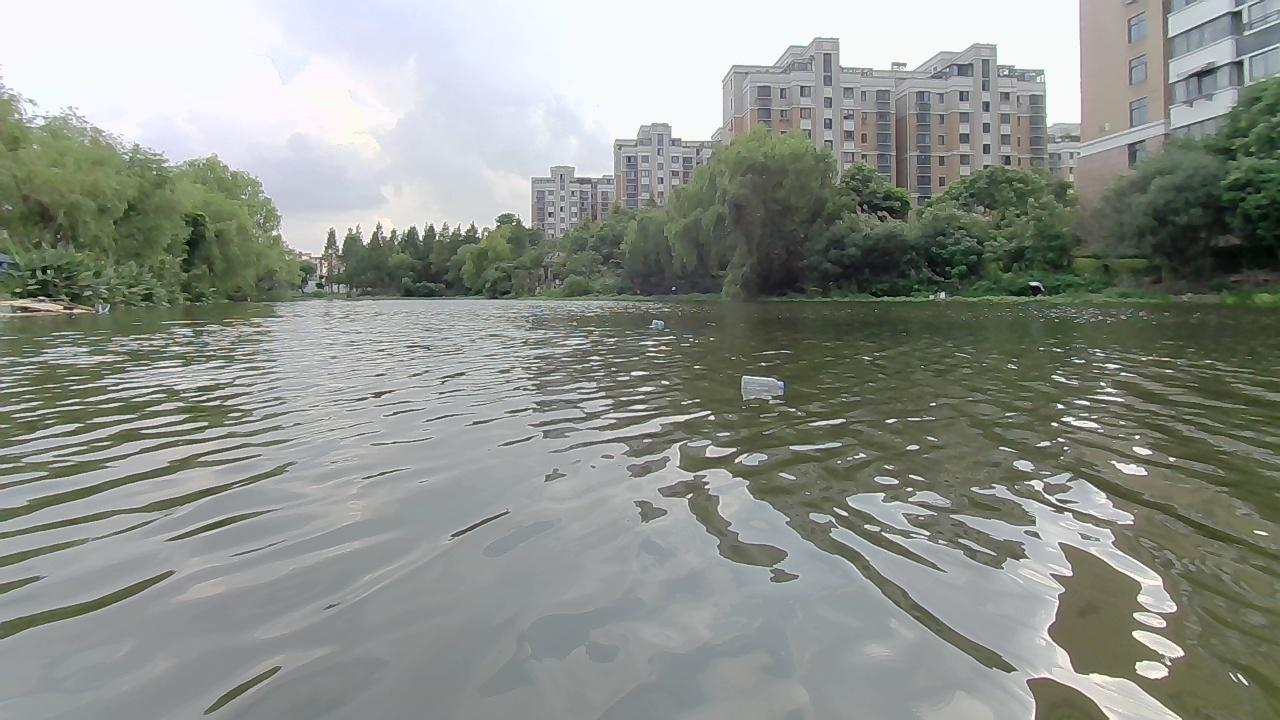bottle: (734, 372, 786, 394), (648, 317, 661, 330)
